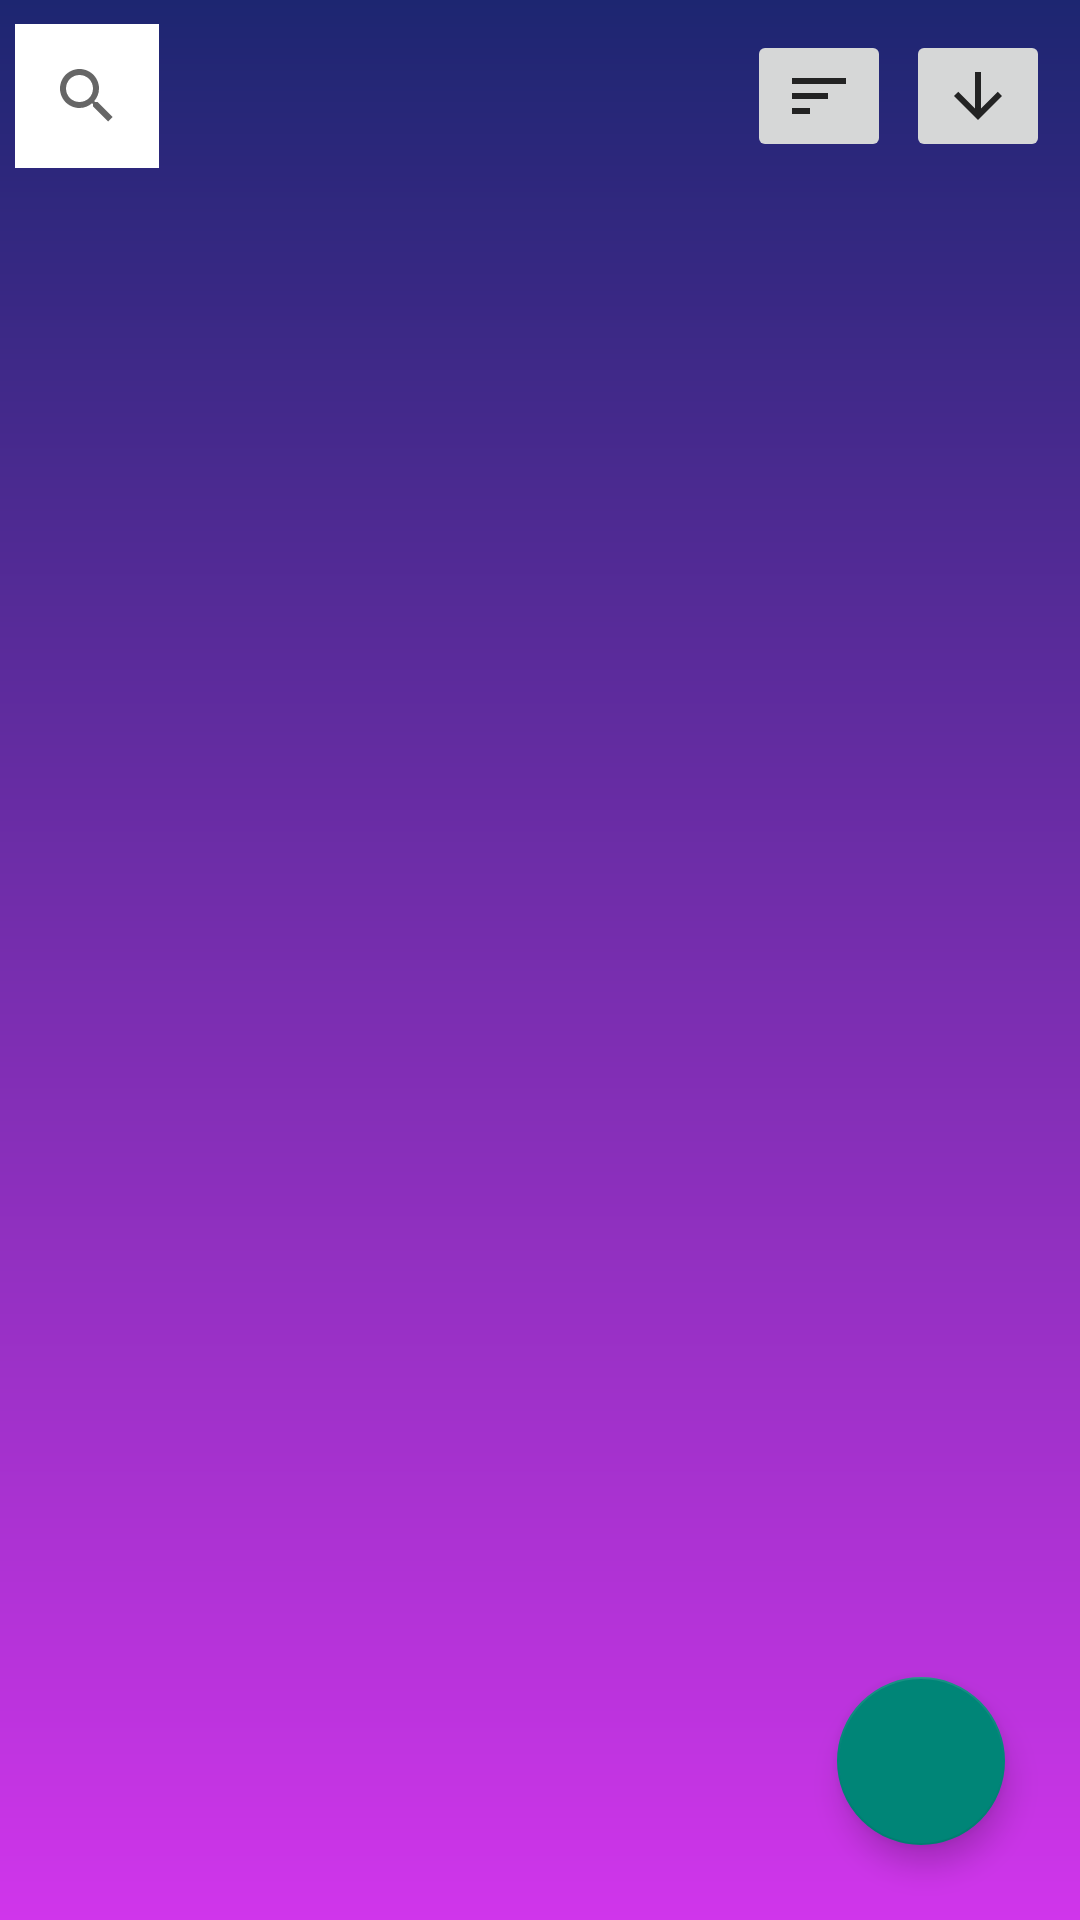

Point at icon controls on the screen. Image size 1080 x 1920, points as [x,y].
downward: [978,96]
sort: [819,96]
